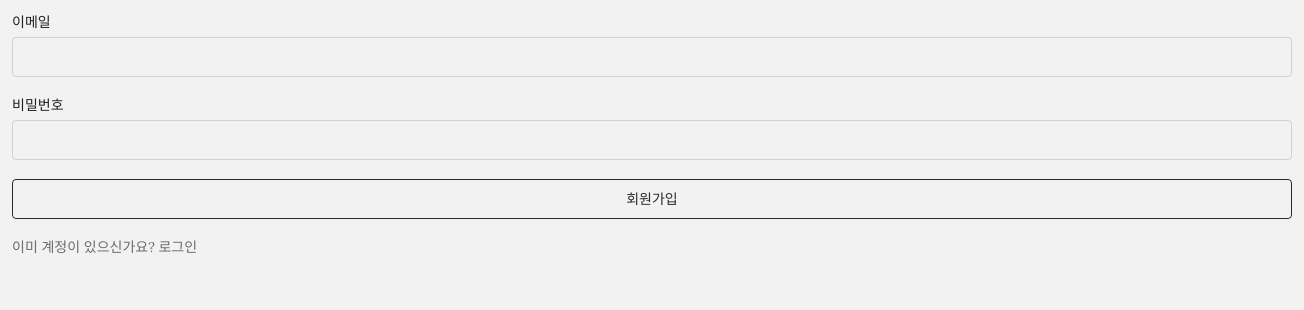
Test: AC-AUTH-031 -- 회원가입 실패 시 정확한 서버 오류 메시지 3종 표시 › (c) 이미 가입된 이메일 -- 정확한 메시지, 이동 없음
Type "existing@example.com" into the field labelled "이메일" at (652, 57), box [12,37,1292,77]
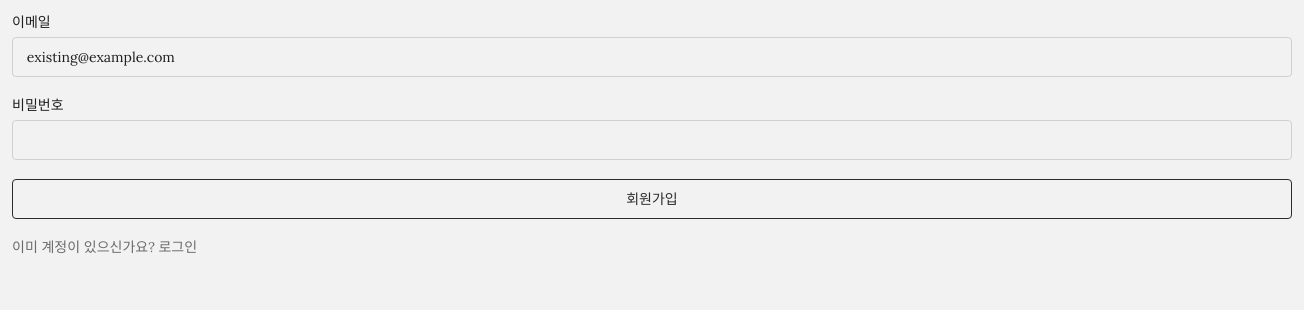
Type "correct horse battery staple" into the password field labelled "비밀번호" at (652, 140), box [12,120,1292,160]
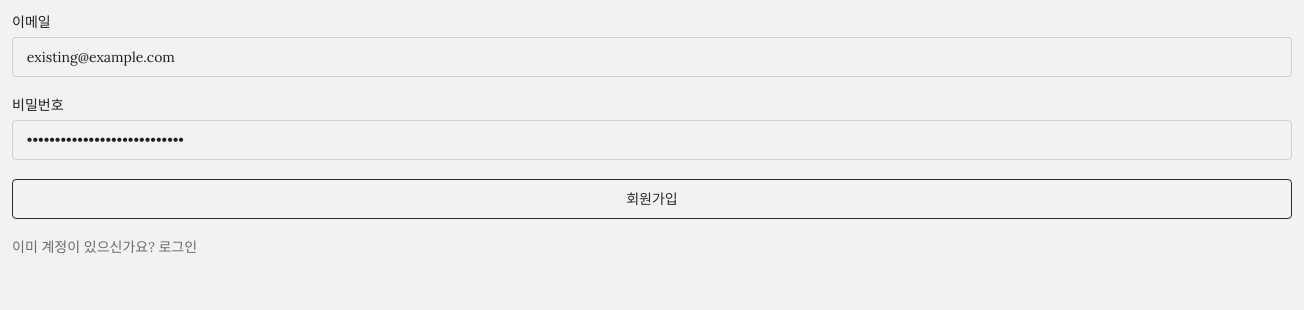
Click the button "회원가입" at (652, 199), box [12,179,1292,219]
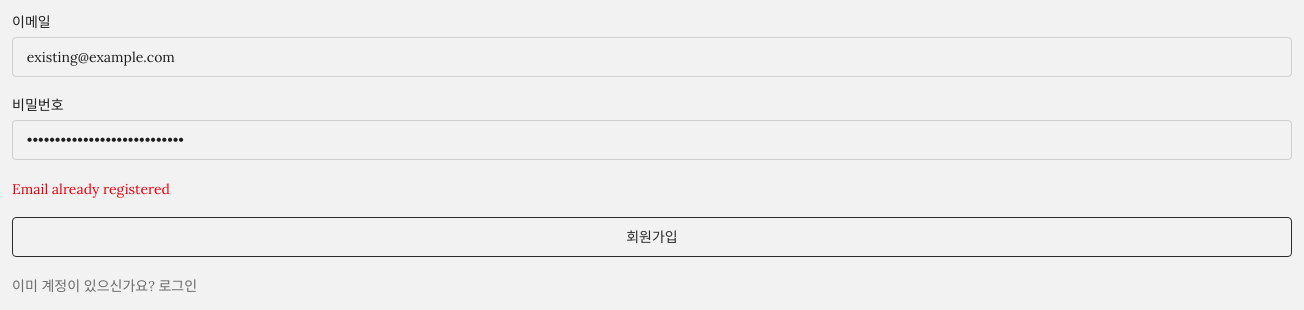
Expected: the message reads "Email already registered", [12,180,170,198]
